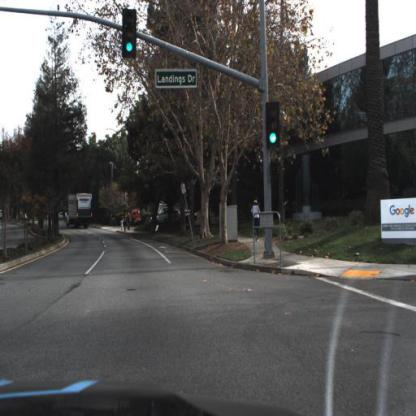pedestrian: (251, 197, 261, 245), (252, 200, 260, 237)
trafficLight-Green: (268, 102, 280, 149), (124, 12, 135, 55)
truck: (67, 189, 94, 231)
